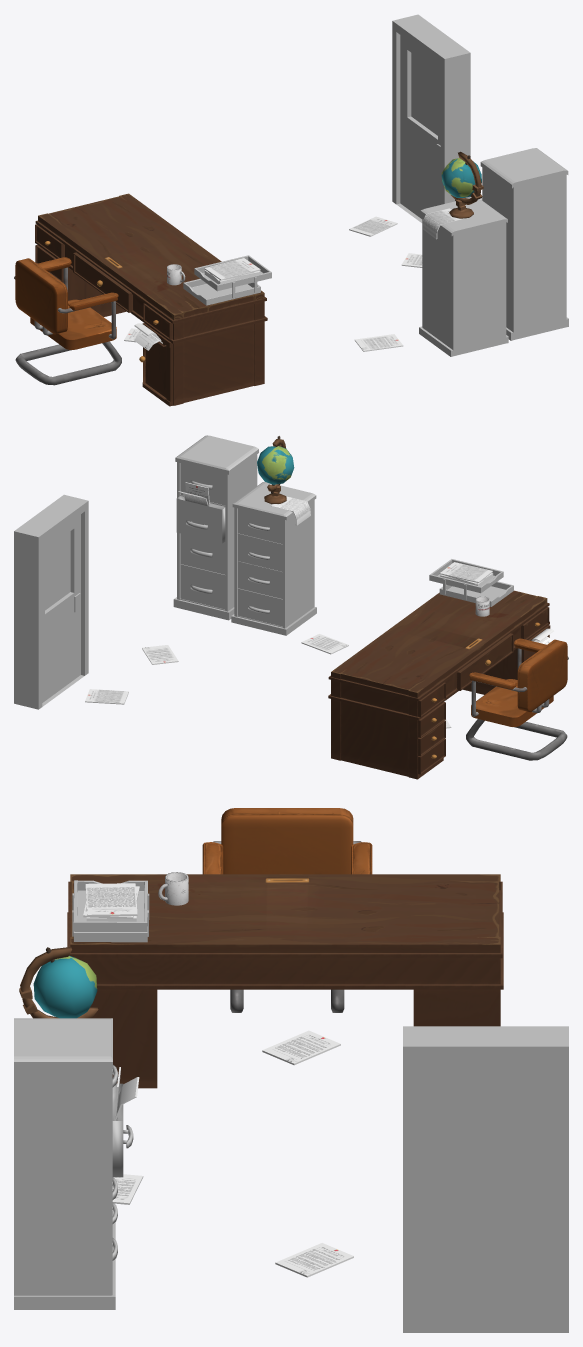
The model's file is Blocagem3.fbx.
3 views of the same model, one above another, from view 1: azimuth 30°, elevation 25°; view 2: azimuth 150°, elevation 25°; view 3: azimuth 270°, elevation 25° (orthographic). The views are drawn at different scales.
Parts seen in each view (by area): view 1: Cube.010, Cube.031, Cube.012, Cube.032, Cadeira, Porta_Papel, Cube.027, Pilha_Papel, Pilha_Papel.004, Pilha_Papel.007, Pilha_Papel.001; view 2: Cube.010, Cube.031, Cube.012, Cube.032, Cadeira, Porta_Papel, Cube.027, Pilha_Papel, Pilha_Papel.001, Pilha_Papel.004, Pilha_Papel.007, Pilha_Papel.006; view 3: Cube.010, Cube.031, Cube.012, Cadeira, Cube.027, Porta_Papel, Pilha_Papel, Pilha_Papel.005, Pilha_Papel.006, Circle.009.
Part boxes in pixels (bbox=[...]): Cube.010: bbox=[35, 193, 267, 406]; Cube.031: bbox=[392, 14, 470, 222]; Cube.012: bbox=[480, 148, 568, 340]; Cube.032: bbox=[419, 197, 508, 356]; Cadeira: bbox=[14, 257, 121, 385]; Porta_Papel: bbox=[183, 255, 271, 305]; Cube.027: bbox=[441, 151, 483, 218]; Pilha_Papel: bbox=[204, 258, 260, 284]; Pilha_Papel.004: bbox=[354, 334, 403, 351]; Pilha_Papel.007: bbox=[423, 208, 463, 239]; Pilha_Papel.001: bbox=[349, 216, 397, 236]; Cube.010: bbox=[328, 590, 550, 779]; Cube.031: bbox=[14, 494, 88, 709]; Cube.012: bbox=[173, 435, 258, 620]; Cube.032: bbox=[231, 482, 316, 635]; Cadeira: bbox=[466, 638, 568, 760]; Porta_Papel: bbox=[429, 559, 513, 606]; Cube.027: bbox=[257, 436, 294, 504]; Pilha_Papel: bbox=[439, 562, 493, 586]; Pilha_Papel.001: bbox=[85, 689, 128, 704]; Pilha_Papel.004: bbox=[301, 634, 348, 654]; Pilha_Papel.007: bbox=[271, 496, 310, 525]; Pilha_Papel.006: bbox=[142, 645, 178, 664]; Cube.010: bbox=[67, 874, 503, 1088]; Cube.031: bbox=[403, 1026, 568, 1332]; Cube.012: bbox=[14, 1018, 133, 1309]; Cadeira: bbox=[202, 808, 372, 1012]; Cube.027: bbox=[19, 947, 98, 1018]; Porta_Papel: bbox=[72, 880, 149, 942]; Pilha_Papel: bbox=[83, 883, 139, 921]; Pilha_Papel.005: bbox=[262, 1030, 340, 1065]; Pilha_Papel.006: bbox=[275, 1243, 353, 1277]; Circle.009: bbox=[158, 872, 188, 905].
Bounding box in the file's own units: 1055 × 396 × 669.
